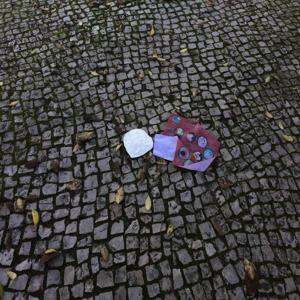plastic: (150, 114, 223, 173), (120, 126, 155, 163)
